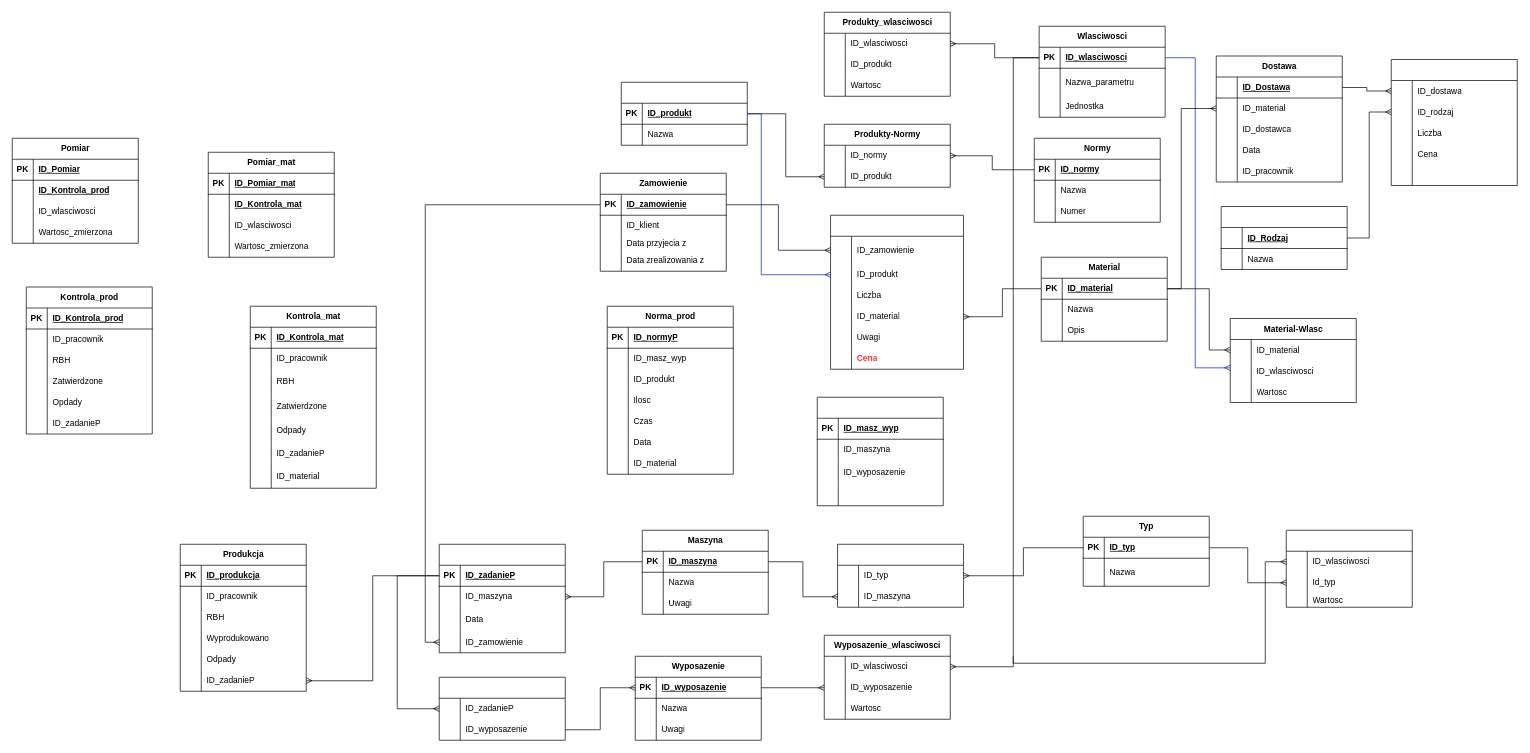
Some shapes in this 1530 by 753 pixel diagram are drawn without their labels. The box of each missing label's shape, as (x1, y1, x2, y2) in pixels:
Maszyna_typ: (837, 544, 964, 607)
Maszyna_wyp: (817, 397, 943, 506)
Produkty: (621, 82, 747, 145)
Rodzaj_mat: (1220, 206, 1347, 270)
Szczegoly_dostawy: (1391, 59, 1517, 186)
Szczegoly_zamowienia: (830, 215, 964, 369)
Typ_wlasciwosci: (1286, 530, 1412, 607)
Zadanie_produkcyjne: (439, 544, 565, 653)
Zadanie_wyp: (439, 677, 565, 740)
